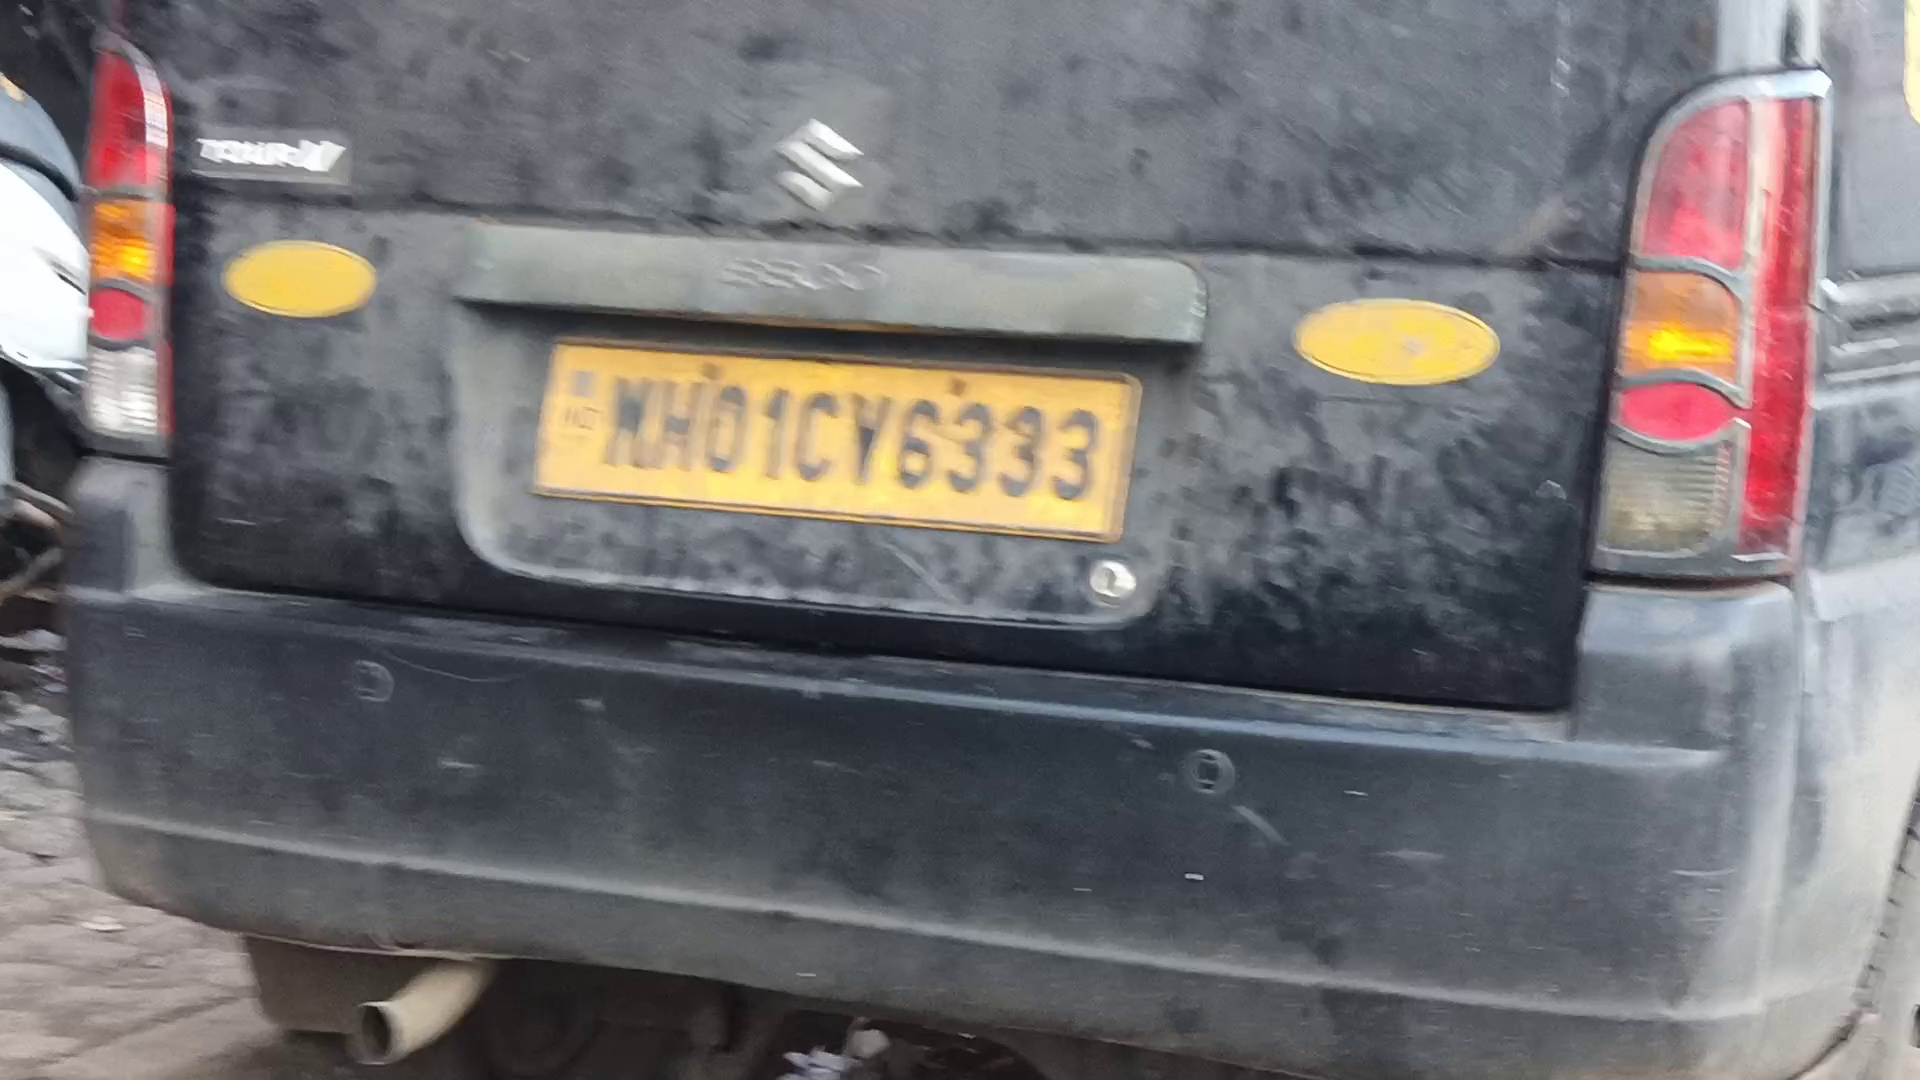MH01CY6333: (532, 337, 1142, 545)
